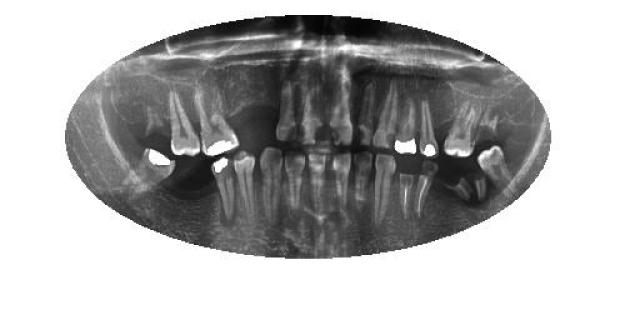Cavity: (372, 80, 398, 150), (328, 82, 353, 146), (298, 90, 324, 146), (274, 81, 298, 141), (416, 158, 439, 216), (355, 82, 375, 146), (398, 158, 417, 218), (438, 172, 472, 202), (142, 105, 168, 143), (474, 109, 500, 145), (472, 168, 487, 202)
Fillings: (118, 146, 176, 202), (194, 88, 240, 158), (211, 156, 235, 220), (395, 94, 416, 155), (419, 100, 439, 156)
